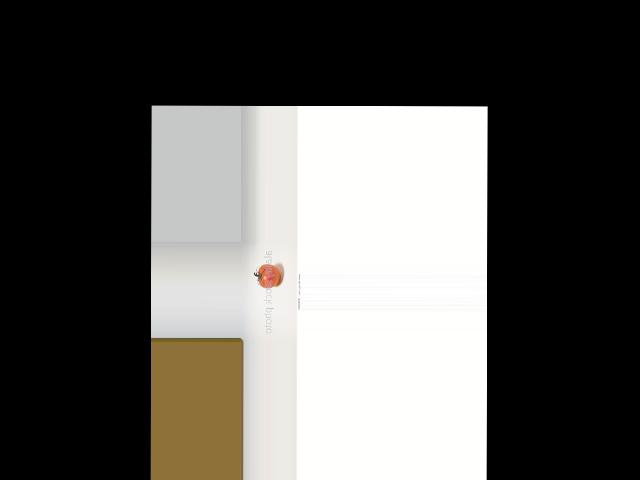tomato: (257, 264, 280, 288)
